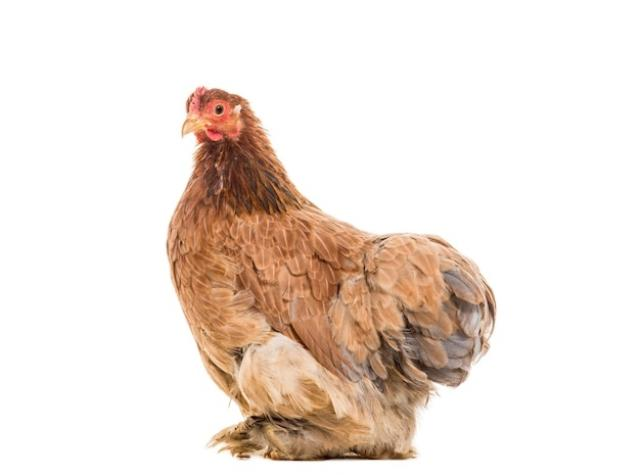Chicken: (168, 84, 496, 462)
